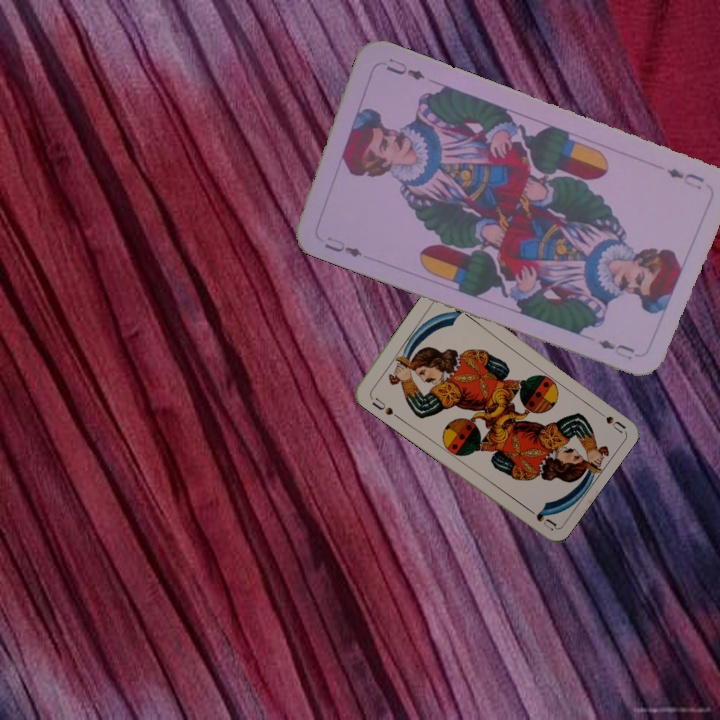EU: (320, 232, 365, 260), (663, 164, 707, 192)
SU: (590, 404, 627, 435), (366, 392, 396, 418)
